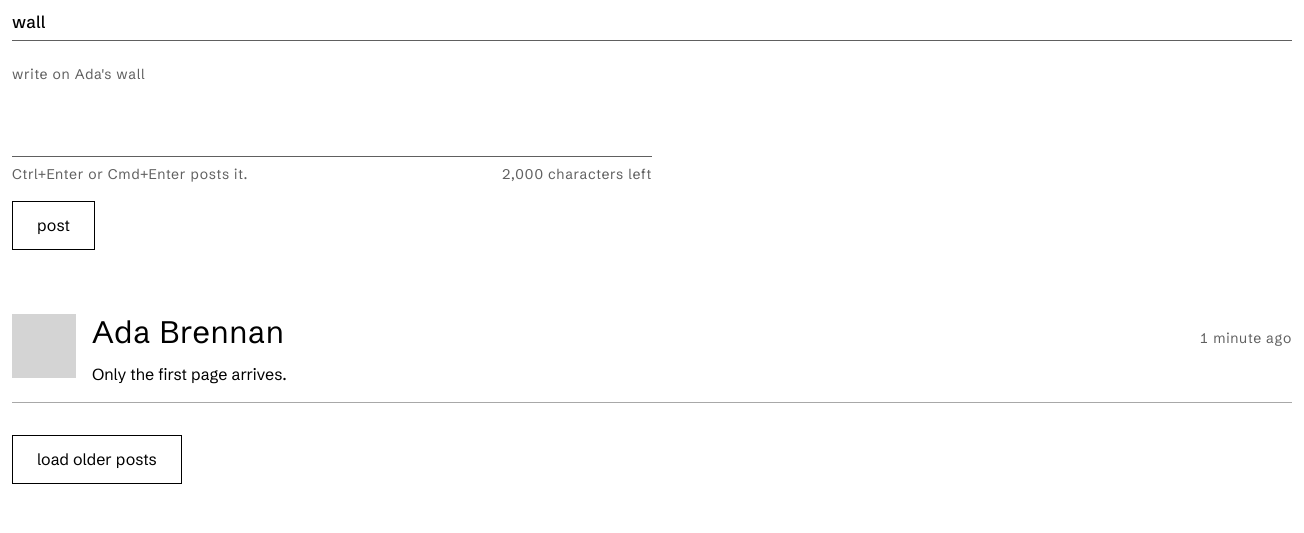
Test: Wall › F-70: a failed "load older posts" keeps the loaded posts and the button to try again
This screenshot has width=1304, height=533.
Click the button "load older posts" at {"x": 97, "y": 460}, box top-left (12, 435), bottom-right (182, 484)
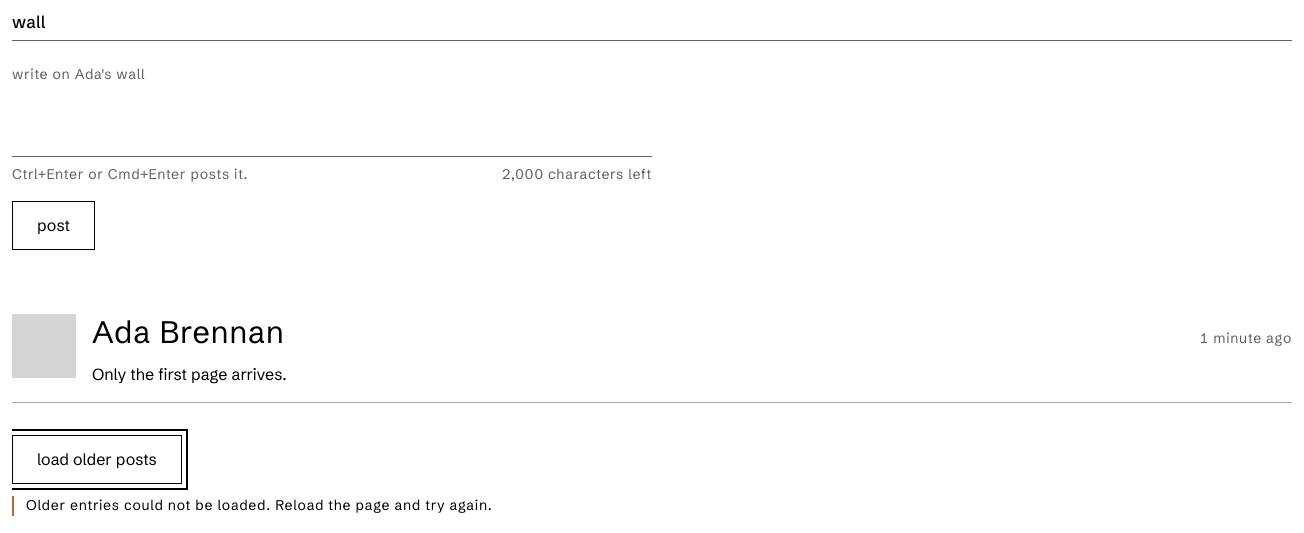
Expected: the text "Only the first page arrives." is shown, top-left (92, 363), bottom-right (287, 386)
Expected: the message reads "Older entries could not be loaded. Reload the page and try again.", top-left (26, 496), bottom-right (492, 514)
